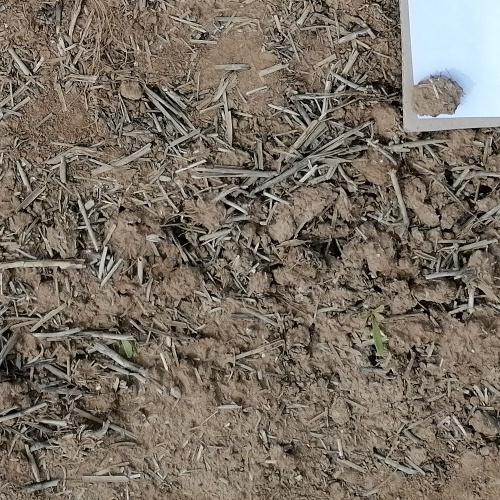beet: (366, 305, 387, 357)
